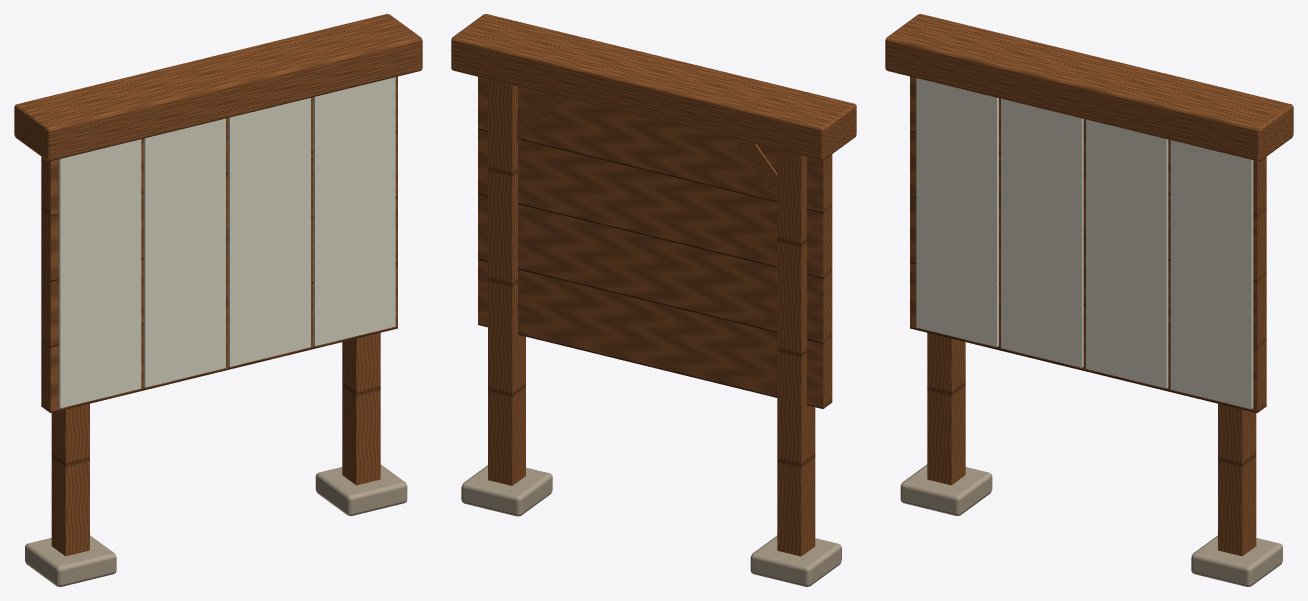
File: wild-west-frontier-town-wanted-poster-board-21ec7379__30104.glb
The picture shows the model from 3 angles, left to right: view 1: azimuth 30°, elevation 25°; view 2: azimuth 150°, elevation 25°; view 3: azimuth 330°, elevation 25°; orthographic projection.
Visible parts, largest first — view 1: wanted-poster-board; view 2: wanted-poster-board; view 3: wanted-poster-board.
Part boxes in pixels (box(x1,y1,x2,y2)): wanted-poster-board: box(14, 14, 422, 586); wanted-poster-board: box(451, 14, 856, 586); wanted-poster-board: box(885, 14, 1293, 586).
Size of the model in its own units: 1.86 by 2.2 by 0.32.
3 materials, 2 textured.
